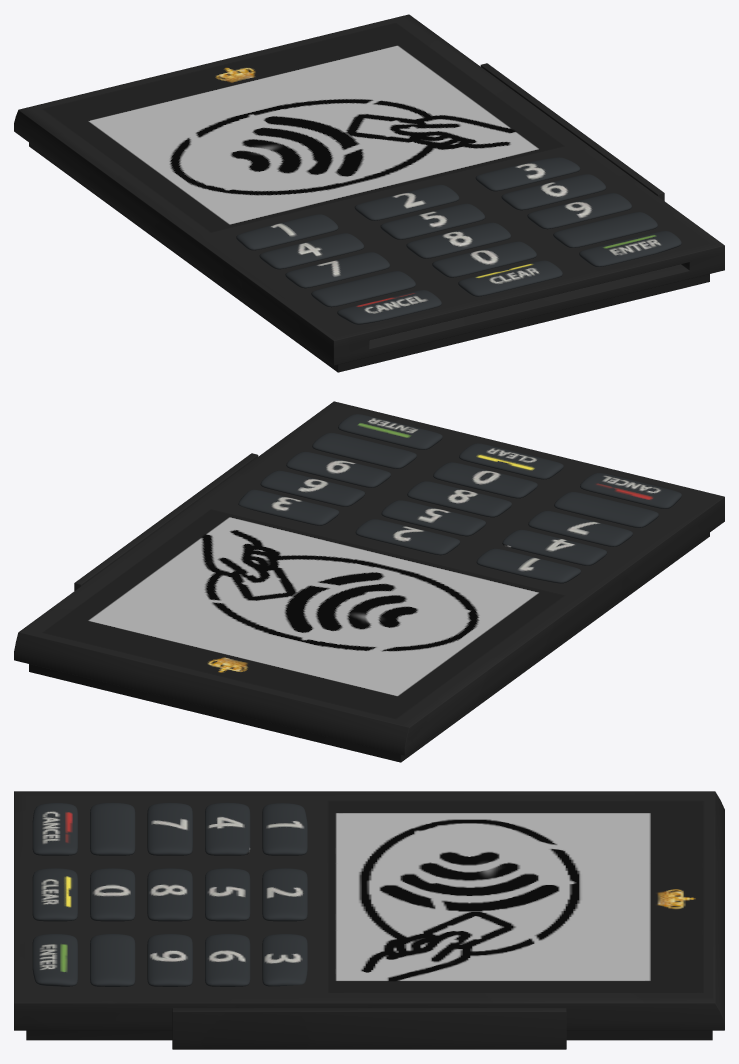
The model's file is credit_card_reader.glb.
The picture shows the model from 3 angles, top to bottom: view 1: azimuth 30°, elevation 25°; view 2: azimuth 150°, elevation 25°; view 3: azimuth 270°, elevation 25°; orthographic projection. The views are drawn at different scales.
Visible parts, largest first — view 1: Cube.002; view 2: Cube.002; view 3: Cube.002.
Boxes of the visible parts, box(x1,y1,x2,y2) form: Cube.002: box(14, 14, 724, 372); Cube.002: box(14, 401, 724, 762); Cube.002: box(14, 791, 724, 1049).
Bounding box in the file's own units: 3.74 × 0.3906 × 5.15.
Materials: 1 (1 with a texture image).
